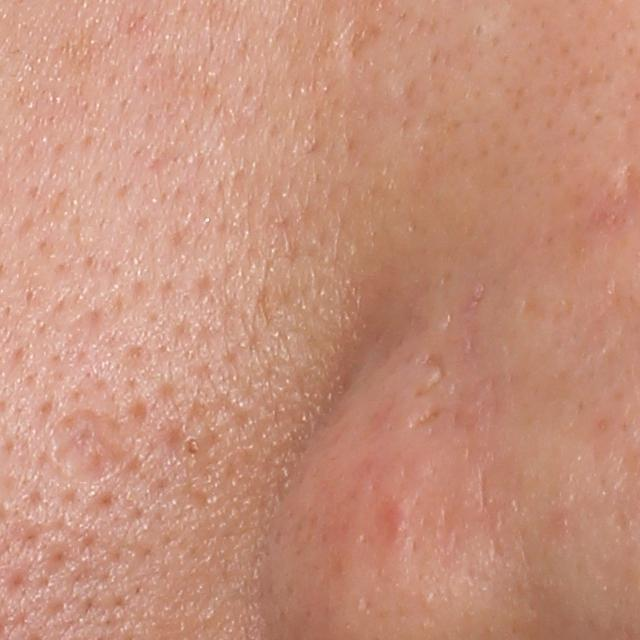atrophic_scar: (50, 406, 137, 491), (339, 15, 386, 63), (415, 348, 449, 398), (405, 401, 451, 434)
